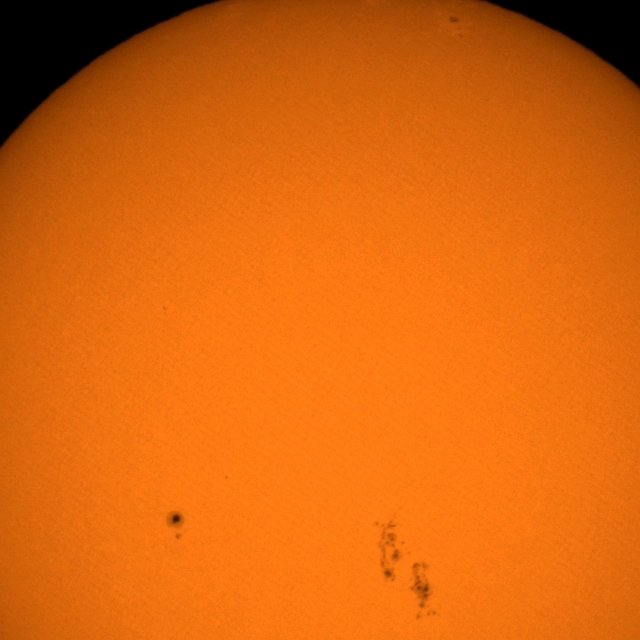sunspot: (375, 546, 436, 599), (374, 518, 410, 568), (408, 576, 438, 622), (407, 560, 434, 606), (165, 510, 186, 541), (447, 14, 463, 38), (223, 474, 230, 481)
